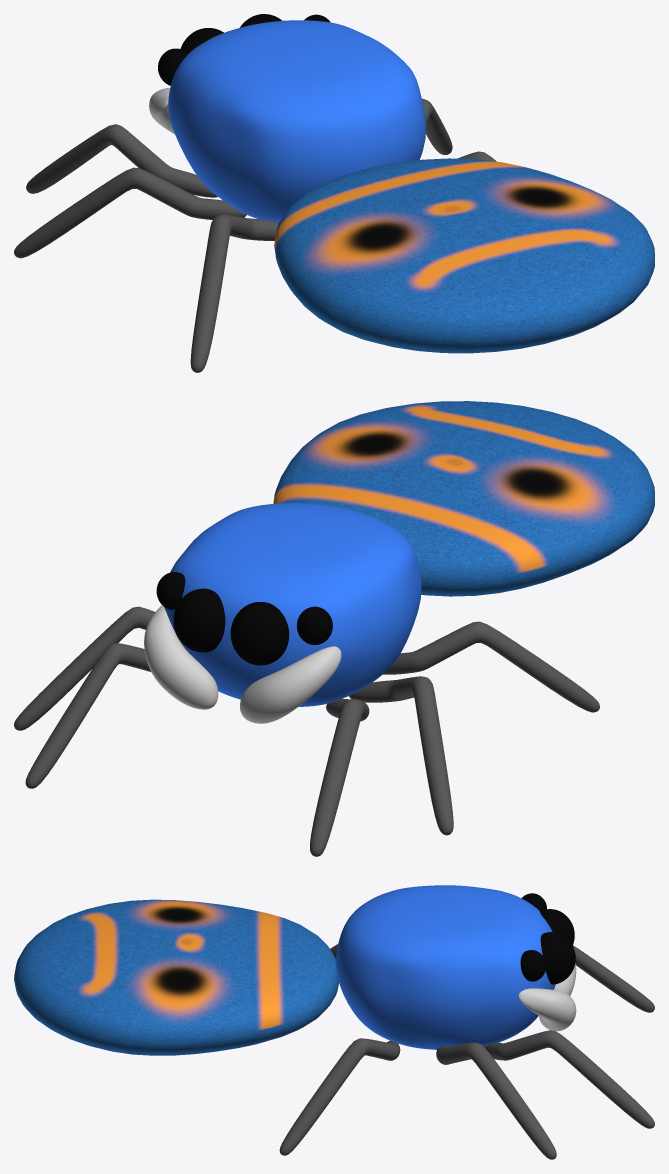
The model's file is Spider61.glb.
The picture shows the model from 3 angles, top to bottom: view 1: azimuth 30°, elevation 25°; view 2: azimuth 150°, elevation 25°; view 3: azimuth 270°, elevation 25°; orthographic projection. The views are drawn at different scales.
Parts seen in each view (by area): view 1: Butt, Head, Leg.003, Leg.005, Leg.001, Leg.002, Pincer.001, Eye.002, Eye; view 2: Butt, Head, Leg.005, Leg.003, Pincer.001, Pincer, Leg, Leg.001, Leg.002, Eye, Eye.001, Eye.002 (+1 smaller); view 3: Butt, Head, Leg, Leg.004, Leg.002, Pincer, Leg.001, Eye.001, Eye.003, Eye.
Part boxes in pixels (x1=…): Butt: x1=274, y1=158, x2=654, y2=353; Head: x1=168, y1=20, x2=425, y2=222; Leg.003: x1=14, y1=167, x2=246, y2=258; Leg.005: x1=190, y1=214, x2=278, y2=372; Leg.001: x1=26, y1=124, x2=217, y2=197; Leg.002: x1=422, y1=98, x2=452, y2=154; Pincer.001: x1=149, y1=88, x2=174, y2=134; Eye.002: x1=158, y1=48, x2=187, y2=85; Eye: x1=180, y1=28, x2=223, y2=53; Butt: x1=273, y1=401, x2=654, y2=596; Head: x1=164, y1=503, x2=421, y2=706; Leg.005: x1=383, y1=621, x2=599, y2=712; Leg.003: x1=349, y1=676, x2=453, y2=835; Pincer.001: x1=240, y1=646, x2=341, y2=723; Pincer: x1=144, y1=605, x2=218, y2=709; Leg: x1=25, y1=643, x2=150, y2=788; Leg.001: x1=310, y1=699, x2=369, y2=856; Leg.002: x1=14, y1=606, x2=155, y2=730; Eye: x1=230, y1=602, x2=289, y2=665; Eye.001: x1=173, y1=588, x2=225, y2=652; Eye.002: x1=296, y1=606, x2=332, y2=644; Butt: x1=14, y1=899, x2=338, y2=1055; Head: x1=336, y1=885, x2=555, y2=1049; Leg: x1=484, y1=1030, x2=654, y2=1128; Leg.004: x1=279, y1=1038, x2=400, y2=1155; Leg.002: x1=436, y1=1042, x2=556, y2=1159; Pincer: x1=518, y1=988, x2=576, y2=1031; Leg.001: x1=573, y1=945, x2=654, y2=1012; Eye.001: x1=540, y1=932, x2=575, y2=984; Eye.003: x1=520, y1=950, x2=546, y2=981; Eye: x1=540, y1=909, x2=574, y2=945.
Size of the model in its own units: 0.3311 by 0.1445 by 0.5082.
Materials: 5 (1 with a texture image).
